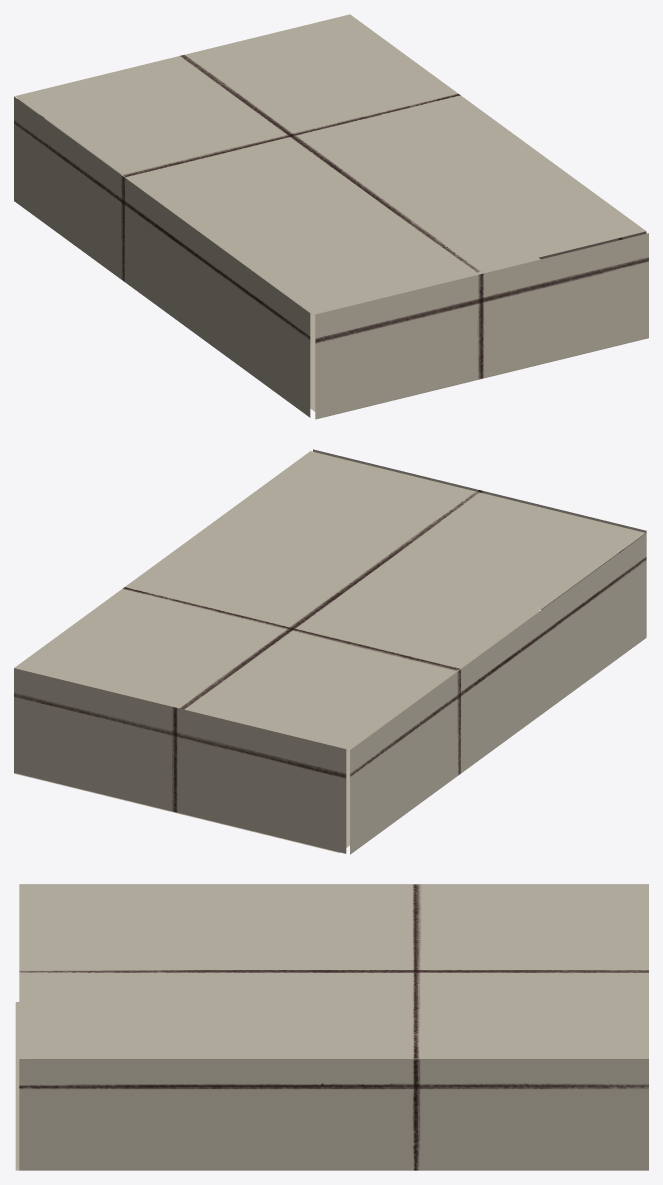
File: BoxyMousePlaceholder.fbx
3 renders of one model, top to bottom at view 1: azimuth 30°, elevation 25°; view 2: azimuth 150°, elevation 25°; view 3: azimuth 270°, elevation 25°, orthographic. The views are drawn at different scales.
Visible parts, largest first — view 1: BoxyMousePlaceholder; view 2: BoxyMousePlaceholder; view 3: BoxyMousePlaceholder.
Part boxes in pixels (x1,y1,x2,y2): BoxyMousePlaceholder: (14, 14, 648, 419); BoxyMousePlaceholder: (14, 449, 646, 854); BoxyMousePlaceholder: (15, 884, 648, 1170).
Size of the model in its own units: 1169 by 351 by 1800.
1 material, 1 textured.
